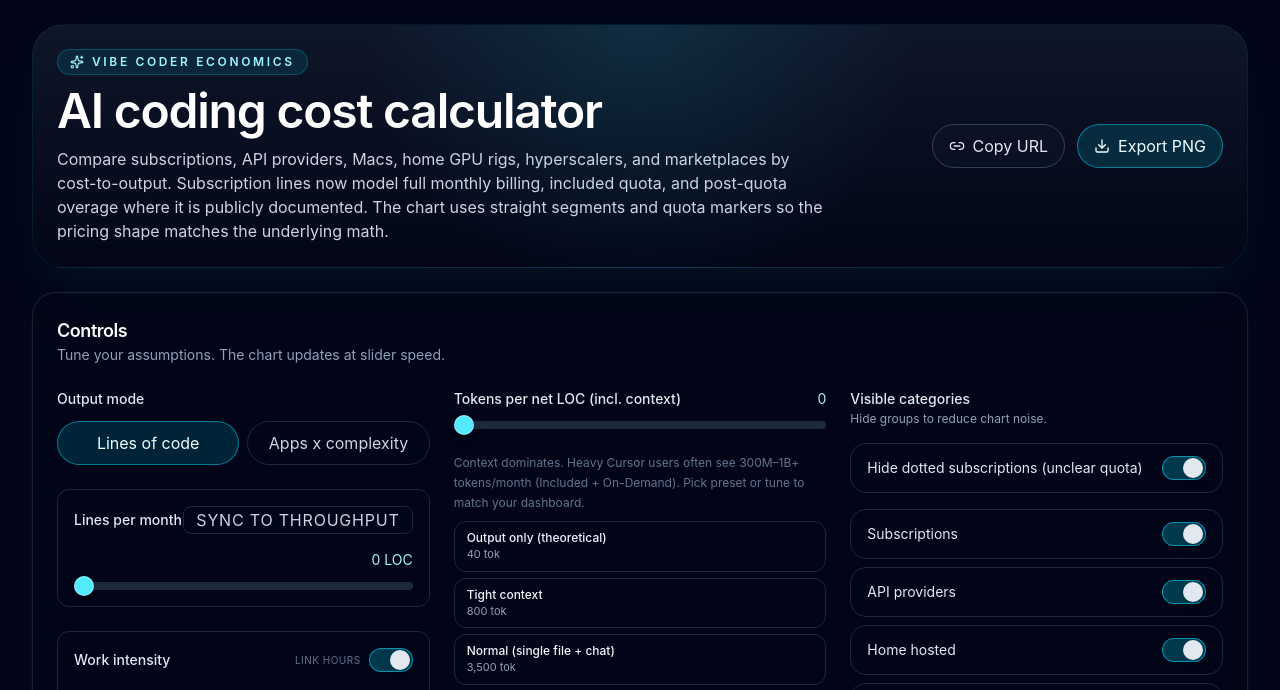
Test case: App › switches to apps mode controls
Click the button "Apps x complexity" at x=338, y=443, box [247,421,430,465]
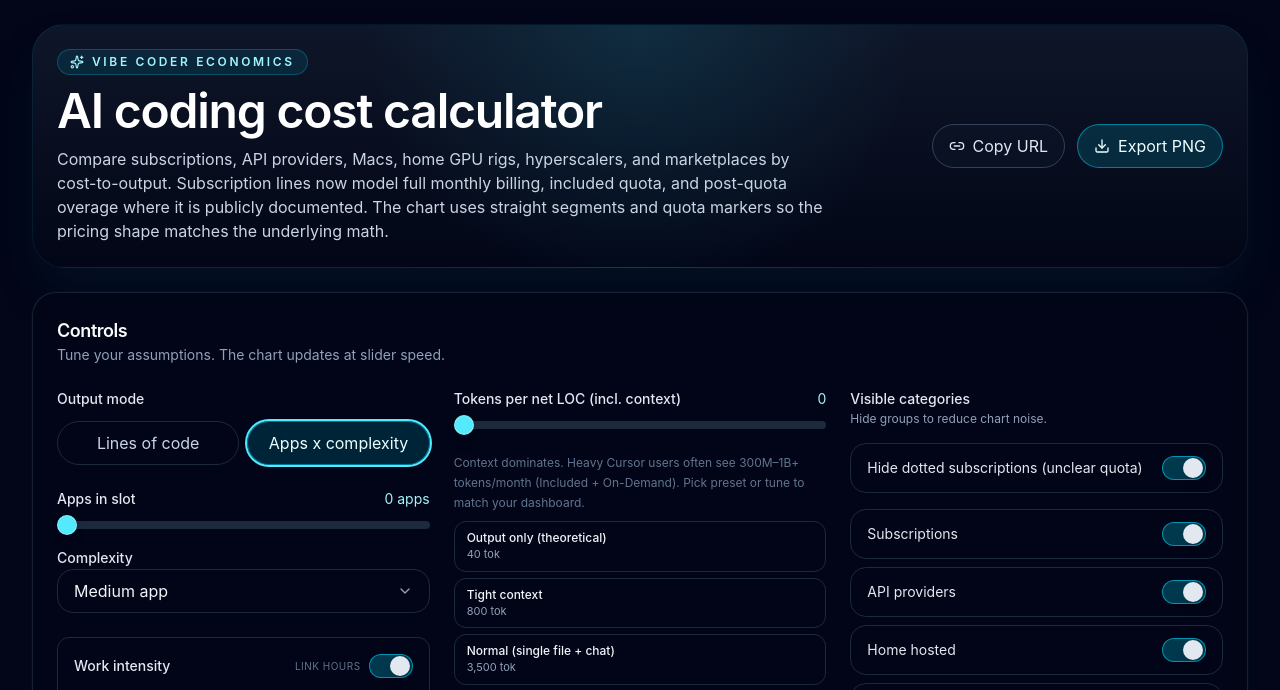
Check: the text "Apps in slot" is shown, box [57,489,136,509]
Check: the dropdown is shown, box [57,569,430,613]
